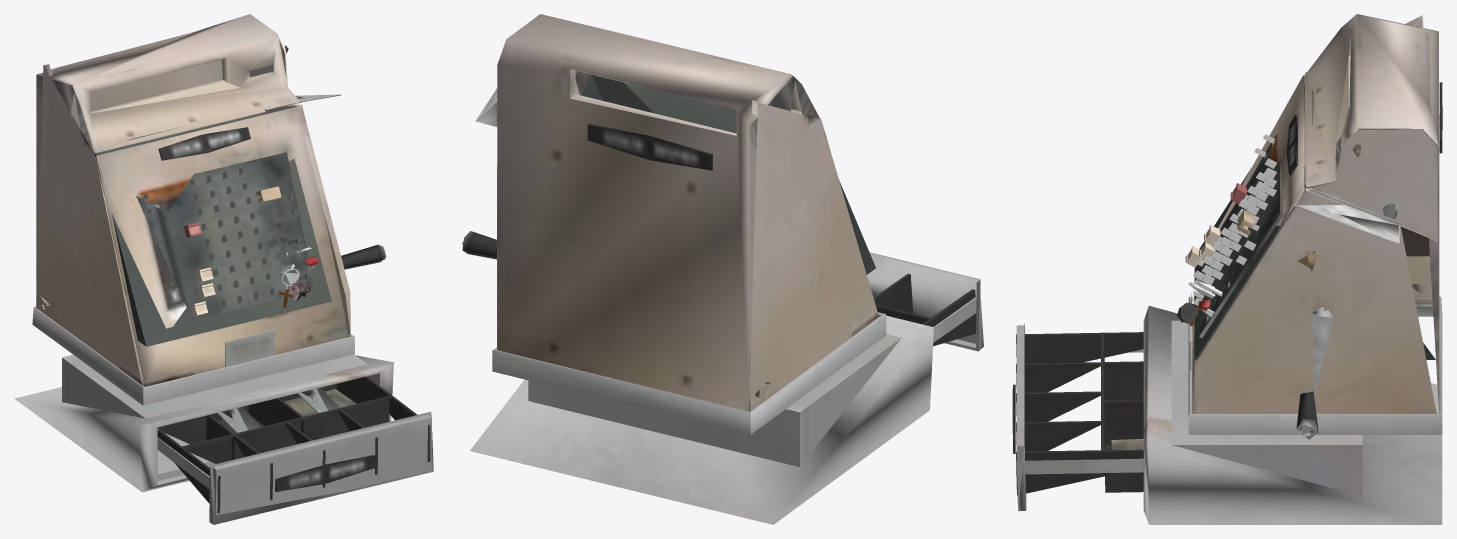
File: register.glb
The picture shows the model from 3 angles, left to right: view 1: azimuth 30°, elevation 25°; view 2: azimuth 150°, elevation 25°; view 3: azimuth 270°, elevation 25°; orthographic projection. The views are drawn at different scales.
Visible parts, largest first — view 1: CashRegister_01_body; view 2: CashRegister_01_body; view 3: CashRegister_01_body.
Boxes of the visible parts, x1=… form: CashRegister_01_body: x1=14, y1=14, x2=433, y2=524; CashRegister_01_body: x1=462, y1=14, x2=983, y2=524; CashRegister_01_body: x1=1012, y1=14, x2=1442, y2=524.
Size of the model in its own units: 0.5941 by 0.6088 by 0.617.
1 material, 1 textured.
